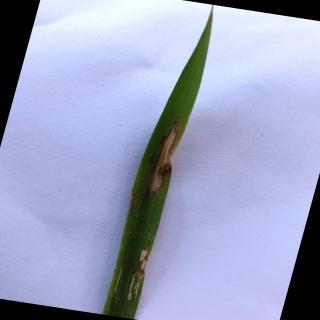Hawar-Daun: (148, 120, 182, 190), (126, 247, 149, 301), (112, 265, 125, 294)
